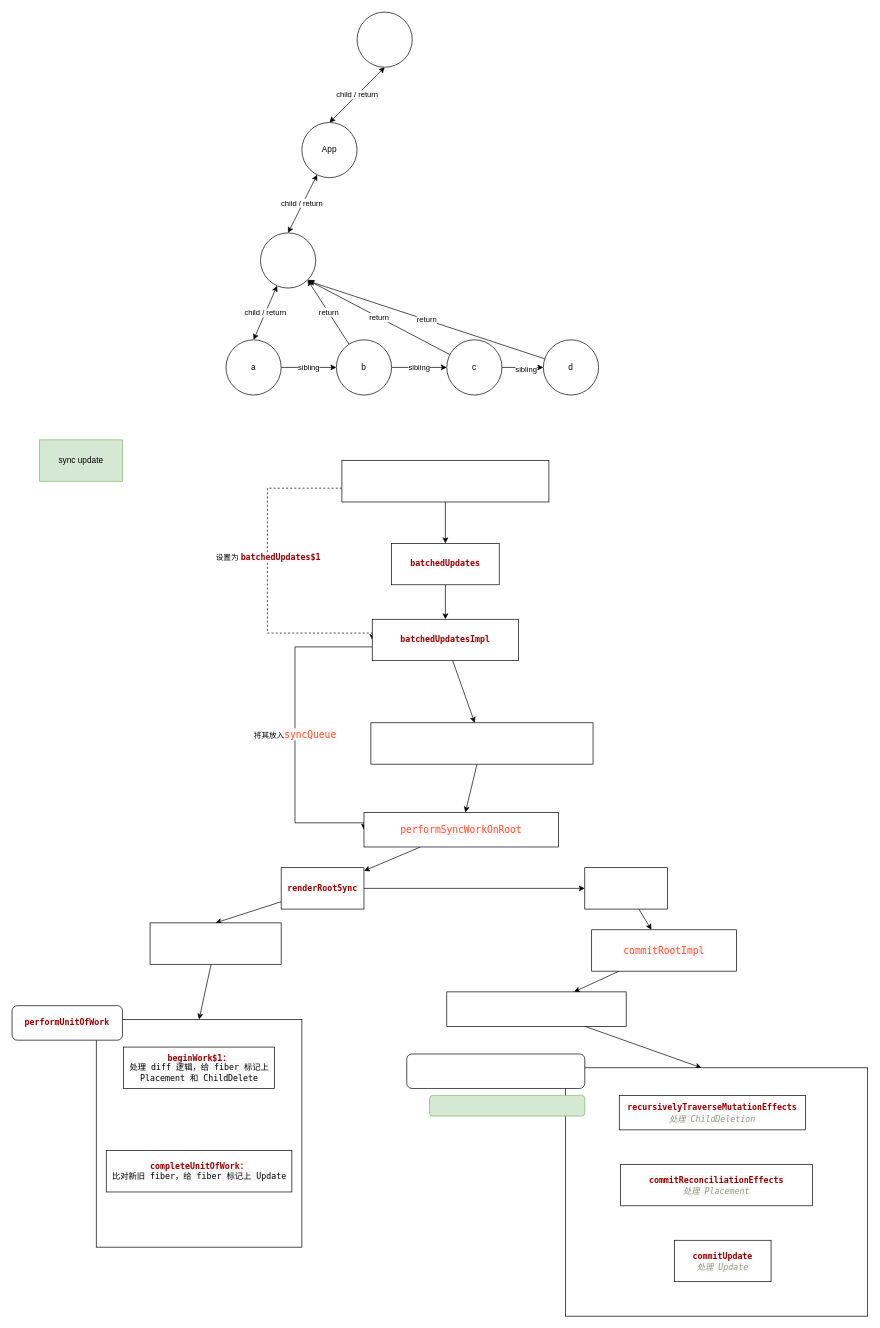
The diagram is 880 pixels wide and 1328 high, and some of its shapes have lost their labels. Here are the shapes that lost their labels. From the top down, the centre of each, then its label:
[384,39]: Root
[288,260]: container
[445,481]: setBatchingImplementation
[481,743]: flushSyncCallbacksOnlyInLegacyMode
[626,888]: commitRoot
[215,943]: workLoopSync 开始遍历 fiber tree
[536,1008]: commitMutationEffects
[495,1070]: commitMutationEffectsOnFiber
[507,1105]: fiber 为 HostComponent 的情况
